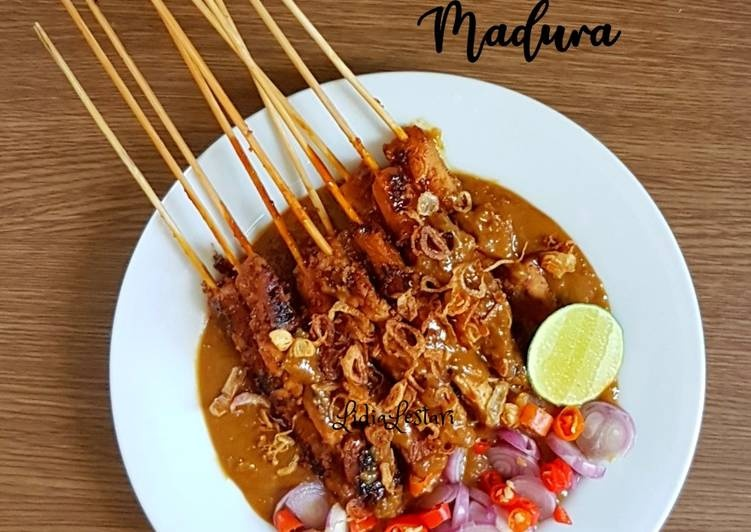sate: (193, 124, 568, 517)
